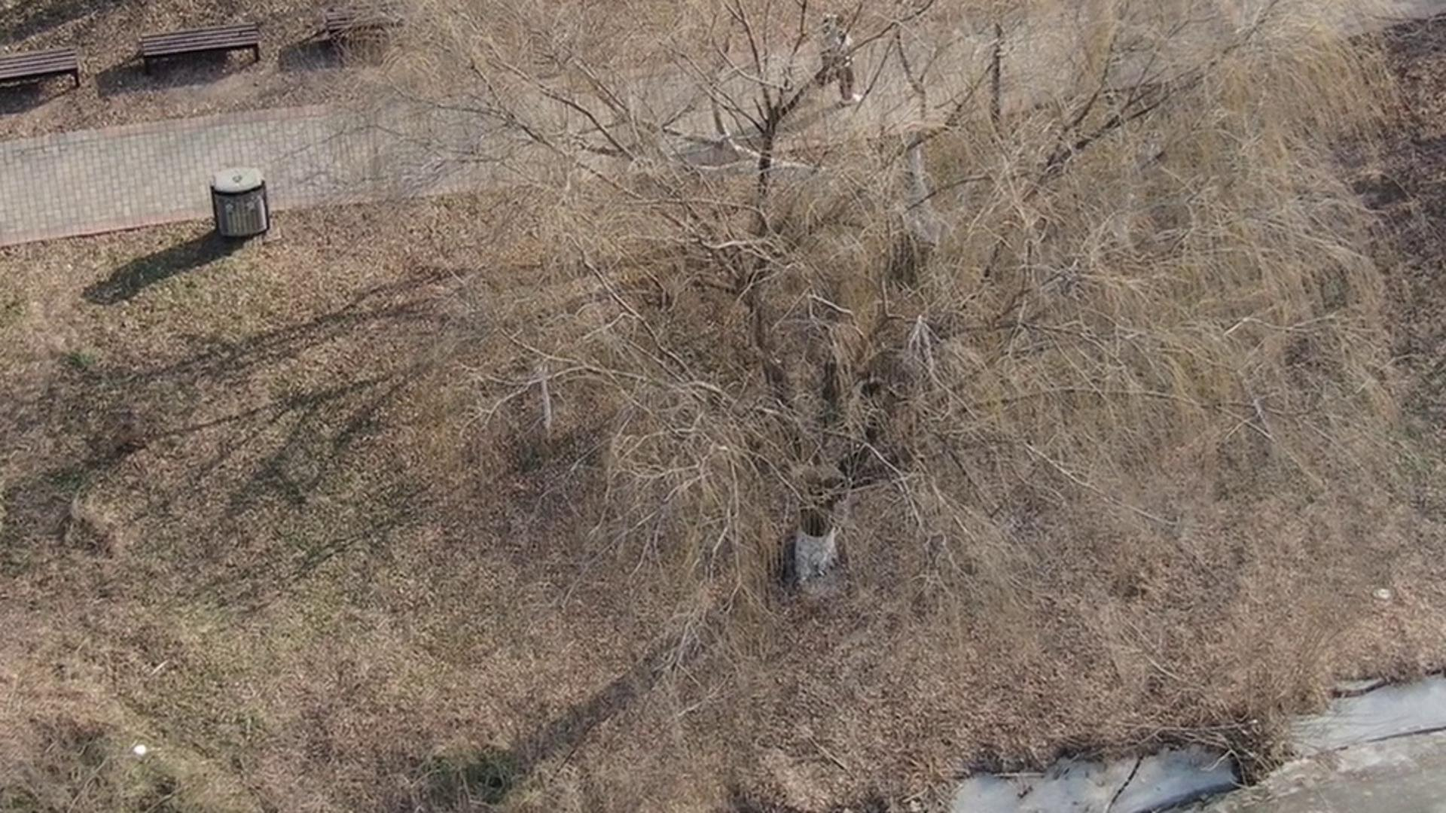human: (815, 23, 856, 111)
